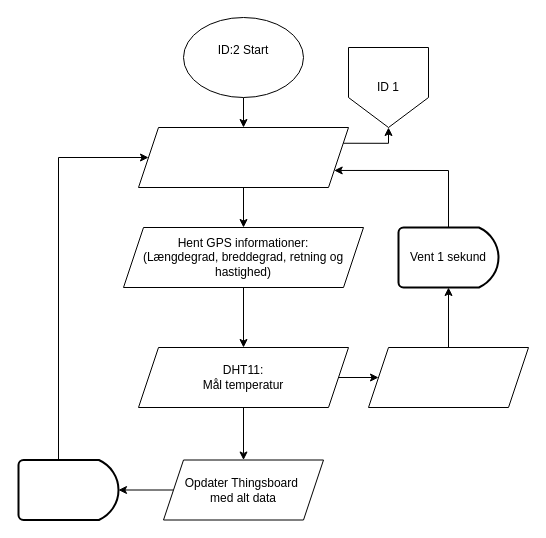
Some shapes in this 546 by 538 pixel diagram are drawn without their labels. Here are the shapes that lost their labels. From the top down, the box of each, then its label:
(138, 126, 348, 188): Hent batteri-%
(368, 346, 528, 408): Opdater Display med de indhentede data
(17, 458, 119, 520): Vent 30 sekunder
